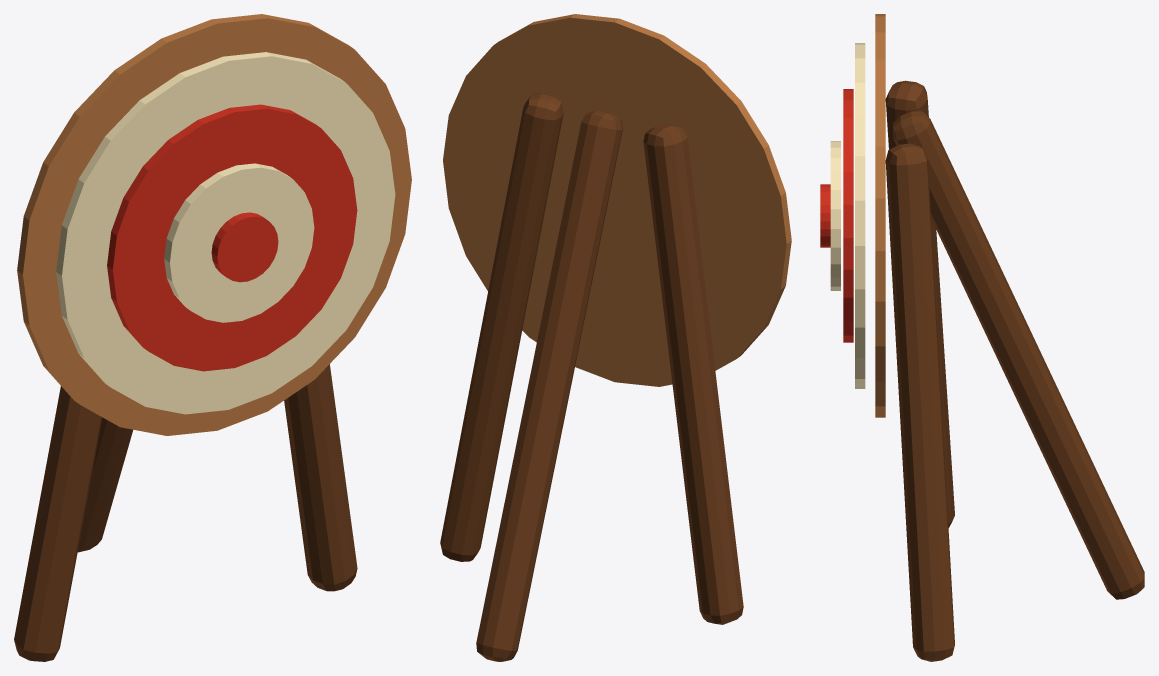
Rendered from kit_target.glb.
The picture shows the model from 3 angles, left to right: view 1: azimuth 30°, elevation 25°; view 2: azimuth 150°, elevation 25°; view 3: azimuth 270°, elevation 25°; orthographic projection. The views are drawn at different scales.
Visible parts, largest first — view 1: Target ring.001, Target ring, Target ring.002, Target ring.003, Target tripod leg, Target tripod leg.001, Target ring.004, Target rear leg; view 2: Target ring, Target rear leg, Target tripod leg, Target tripod leg.001; view 3: Target tripod leg.001, Target rear leg, Target ring, Target ring.001, Target tripod leg, Target ring.002, Target ring.003, Target ring.004.
Boxes of the visible parts, left/top/right/bottom form: Target ring.001: left=56, top=52, right=395, bottom=414; Target ring: left=17, top=14, right=411, bottom=435; Target ring.002: left=107, top=104, right=357, bottom=371; Target ring.003: left=164, top=163, right=314, bottom=322; Target tripod leg: left=14, top=386, right=102, bottom=661; Target tripod leg.001: left=284, top=364, right=357, bottom=591; Target ring.004: left=211, top=212, right=278, bottom=282; Target rear leg: left=77, top=418, right=132, bottom=552; Target ring: left=443, top=14, right=791, bottom=386; Target rear leg: left=476, top=110, right=622, bottom=661; Target tripod leg: left=643, top=124, right=743, bottom=624; Target tripod leg.001: left=440, top=93, right=563, bottom=561; Target tripod leg.001: left=885, top=143, right=954, bottom=661; Target rear leg: left=893, top=110, right=1144, bottom=599; Target ring: left=875, top=14, right=885, bottom=417; Target ring.001: left=855, top=43, right=865, bottom=388; Target tripod leg: left=885, top=80, right=954, bottom=527; Target ring.002: left=843, top=89, right=853, bottom=342; Target ring.003: left=830, top=141, right=840, bottom=290; Target ring.004: left=820, top=184, right=830, bottom=247.
Bounding box in the file's own units: 0.7 × 1.07 × 0.5606.
